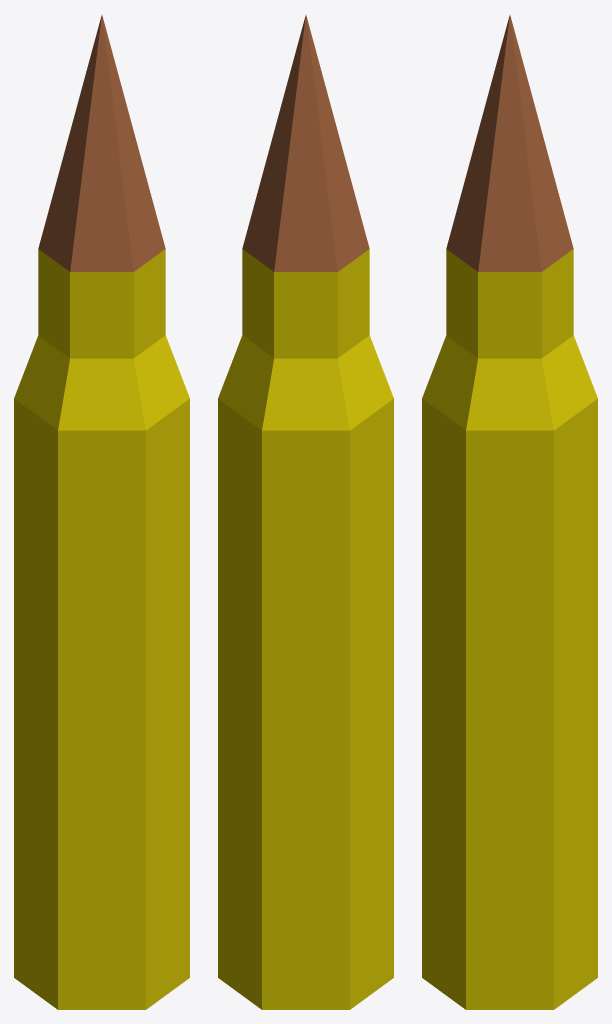
Rendered from bullet.fbx.
The picture shows the model from 3 angles, left to right: view 1: azimuth 30°, elevation 25°; view 2: azimuth 150°, elevation 25°; view 3: azimuth 270°, elevation 25°; orthographic projection.
Parts seen in each view (by area): view 1: Cylinder; view 2: Cylinder; view 3: Cylinder.
Boxes of the visible parts, left/top/right/bottom form: Cylinder: left=14, top=15, right=189, bottom=1009; Cylinder: left=218, top=15, right=393, bottom=1009; Cylinder: left=422, top=15, right=597, bottom=1009.
Bounding box in the file's own units: 4.85 × 33.84 × 5.6.
